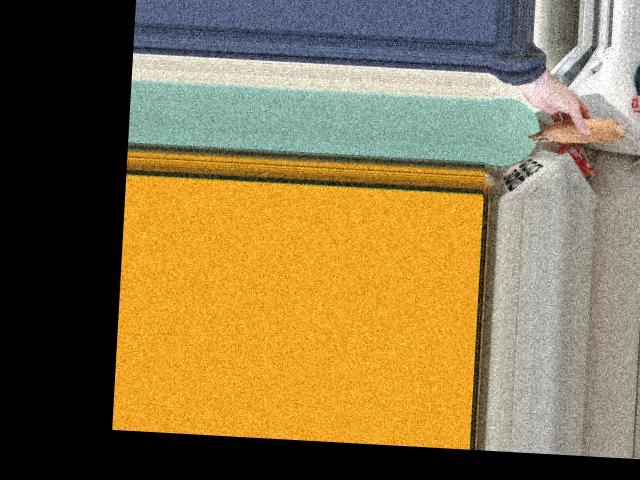sweet_potato: (526, 108, 629, 148)
